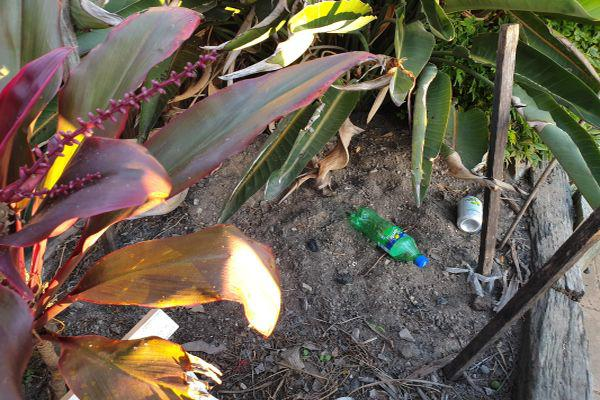Plastic Bottle: (348, 205, 429, 269), (455, 195, 483, 235)
